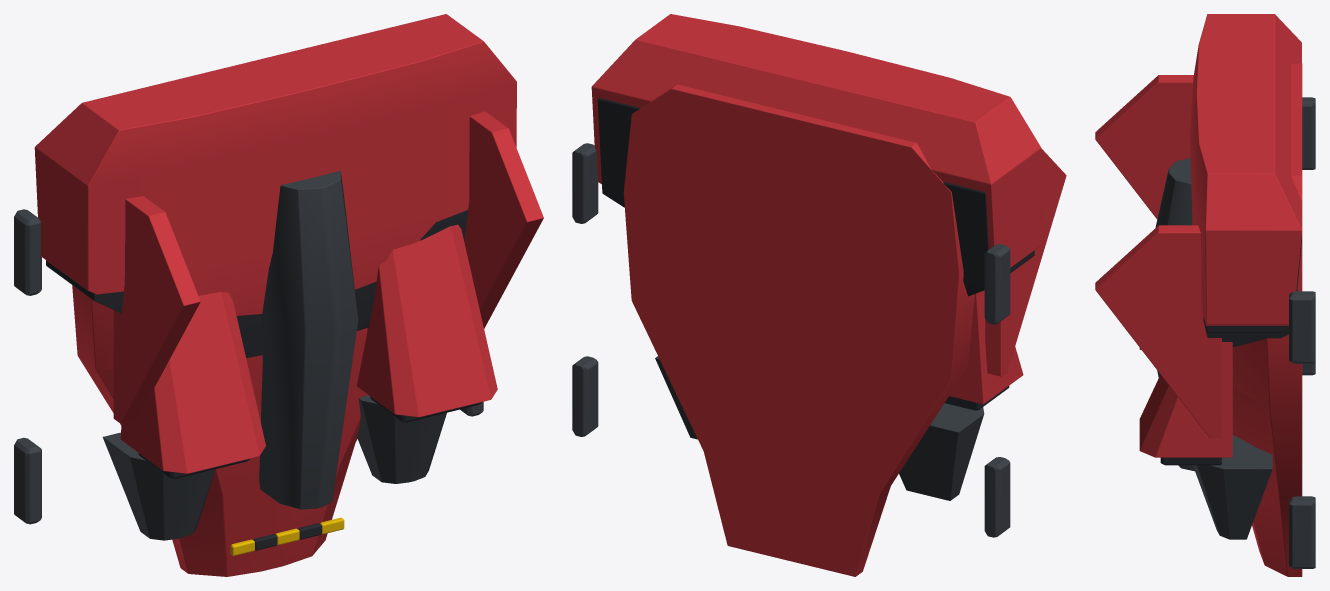
The model's file is BodyBack_Set01_Ironclad.fbx.
The picture shows the model from 3 angles, left to right: view 1: azimuth 30°, elevation 25°; view 2: azimuth 150°, elevation 25°; view 3: azimuth 270°, elevation 25°; orthographic projection. The views are drawn at different scales.
Parts seen in each view (by area): view 1: BodyBack_Set01_Ironclad; view 2: BodyBack_Set01_Ironclad; view 3: BodyBack_Set01_Ironclad.
Part boxes in pixels (x1,y1,x2,y2): BodyBack_Set01_Ironclad: [14, 14, 543, 576]; BodyBack_Set01_Ironclad: [572, 14, 1066, 576]; BodyBack_Set01_Ironclad: [1095, 14, 1315, 576].
Bounding box in the file's own units: 1.07 × 1.12 × 0.4945.
